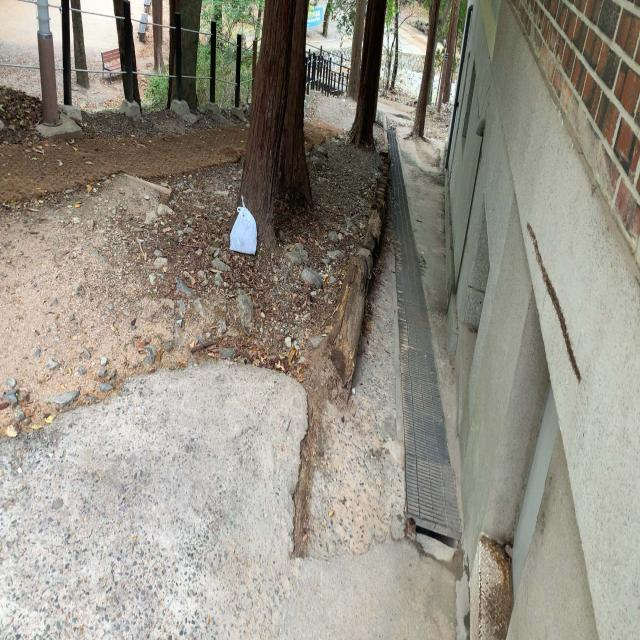garbage bag: (228, 195, 258, 257)
